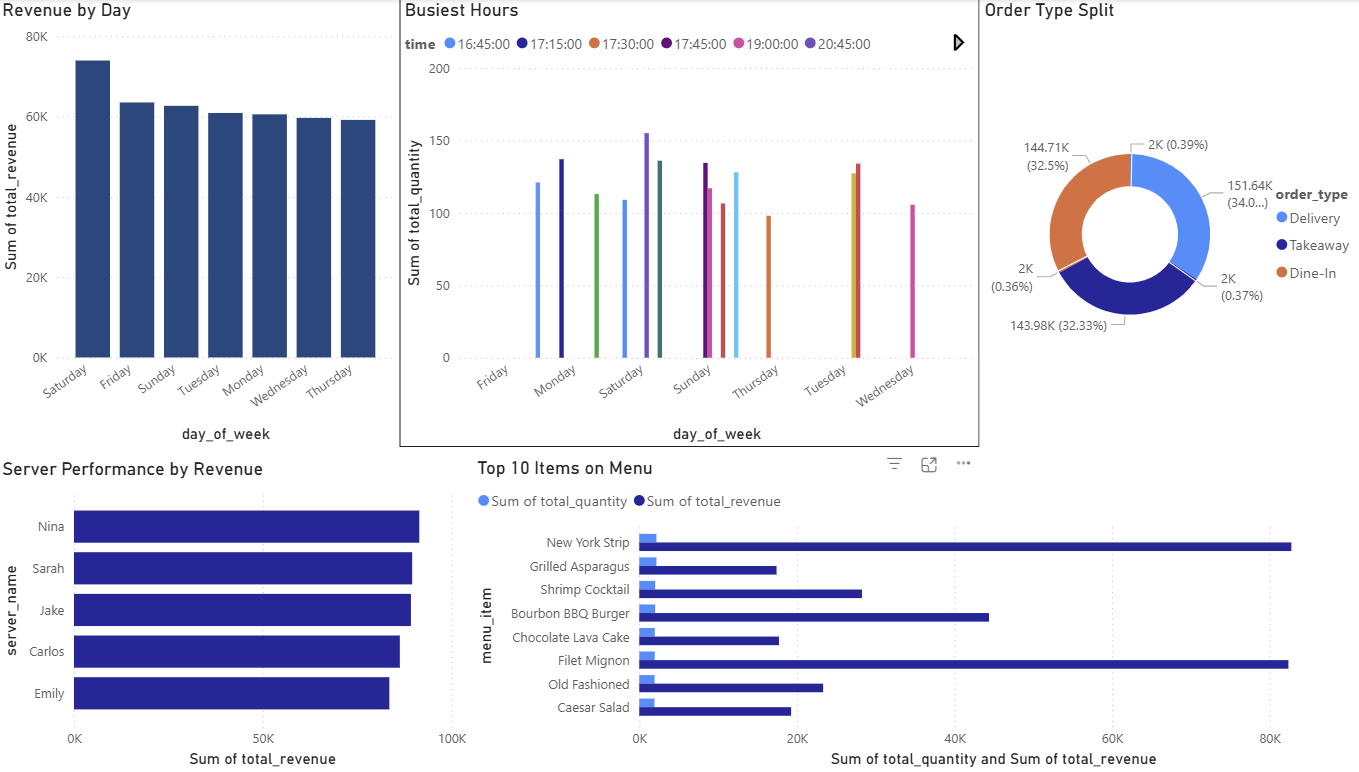

The page's visual inventory and layout, read from the dashboard file:
{"tool":"powerbi","page":{"name":"Page 1","canvas":[1280,720],"ordinal":0},"visuals":[{"type":"clusteredColumnChart","title":"Revenue by Day","fields":{"Category":["Q1 - Revenue by Day.day_of_week"],"Y":["Sum(Q1 - Revenue by Day.total_revenue)"]},"box":[0,0,374.4,417.4],"z":0},{"type":"clusteredBarChart","title":"Top 10 Items on Menu","fields":{"Category":["Q2 - Top 10 Items.menu_item"],"Y":["Sum(Q2 - Top 10 Items.total_quantity)","Sum(Q2 - Top 10 Items.total_revenue)"]},"box":[441.9,425.6,838.4,294.2],"z":1},{"type":"clusteredColumnChart","title":"Busiest Hours","fields":{"Category":["Q3 - Busiest Hours.day_of_week"],"Series":["Q3 - Busiest Hours.time"],"Y":["Sum(Q3 - Busiest Hours.total_quantity)"]},"box":[374.4,0,539.5,417.4],"z":2},{"type":"clusteredBarChart","title":"Server Performance by Revenue","fields":{"Y":["Sum(Q4 - Server Performance.total_revenue)"],"Category":["Q4 - Server Performance.server_name"]},"box":[0,426.8,441.9,293.7],"z":3},{"type":"donutChart","title":"Order Type Split","fields":{"Category":["Q5 - Order Type Slit.order_type"],"Y":["Sum(Q5 - Order Type Slit.total_orders)","Sum(Q5 - Order Type Slit.total_revenue)"]},"box":[914,0,366.3,417.4],"z":4}]}

Visuals, with their boxes in screenshot pixels (x1, y1, x2, y2), scaled from the page's 1280x720 canvas onto the 1359x772 screenshot:
"Revenue by Day" clusteredColumnChart: [x1=0, y1=0, x2=398, y2=448]
"Top 10 Items on Menu" clusteredBarChart: [x1=469, y1=456, x2=1358, y2=771]
"Busiest Hours" clusteredColumnChart: [x1=398, y1=0, x2=970, y2=448]
"Server Performance by Revenue" clusteredBarChart: [x1=0, y1=458, x2=469, y2=771]
"Order Type Split" donutChart: [x1=970, y1=0, x2=1358, y2=448]
